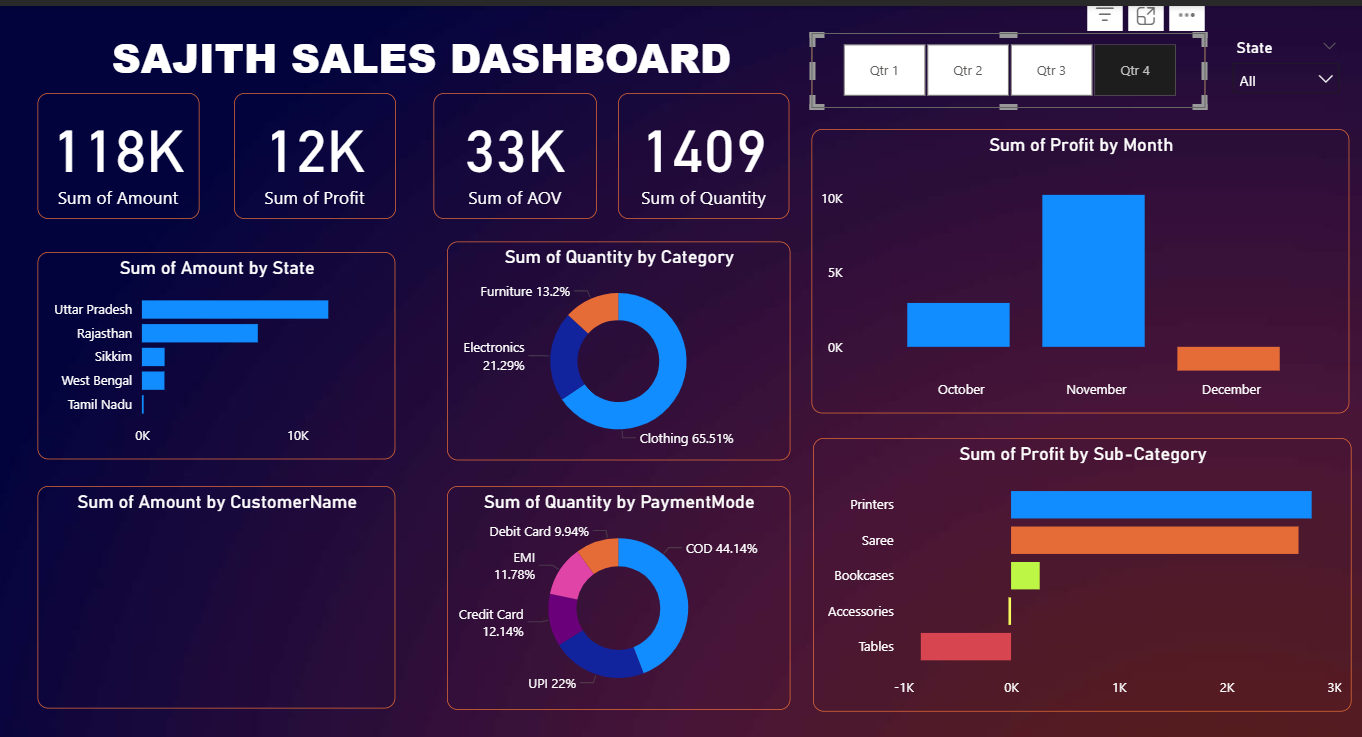

The dashboard page shown, as its layout file describes it:
{"tool":"powerbi","page":{"name":"Page 1","canvas":[1280,720],"ordinal":0},"visuals":[{"type":"clusteredBarChart","fields":{"Y":["Sum(Details.Profit)"],"Category":["Details.Sub-Category"]},"box":[757.8,413.9,498.9,253.2],"z":0},{"type":"donutChart","fields":{"Category":["Details.PaymentMode"],"Y":["Sum(Details.Quantity)"]},"box":[419.4,458.8,318,207.4],"z":1000},{"type":"columnChart","fields":{"Y":["Sum(Details.Profit)"],"Category":["Orders.Order Date.Variation.Date Hierarchy.Month"]},"box":[757.1,127.2,498.2,263.5],"z":2000},{"type":"donutChart","fields":{"Category":["Details.Category"],"Y":["Sum(Details.Quantity)"]},"box":[419.4,231.7,318,202.9],"z":3000},{"type":"columnChart","fields":{"Y":["Sum(Details.Amount)"],"Category":["Orders.CustomerName"]},"box":[40.9,458.8,331.6,205.9],"z":4000},{"type":"barChart","fields":{"Category":["Orders.State"],"Y":["Sum(Details.Amount)"]},"box":[40.9,242.3,331.6,192.3],"z":5000},{"type":"slicer","fields":{"Values":["Orders.Order Date.Variation.Date Hierarchy.Quarter"]},"box":[757.1,39.4,364.9,69.7],"z":6000},{"type":"card","fields":{"Values":["Sum(Details.Amount)"]},"box":[40.9,93.9,149.9,116.6],"z":7000},{"type":"card","fields":{"Values":["Sum(Details.Quantity)"]},"box":[578.4,93.9,159,116.6],"z":8000},{"type":"card","fields":{"Values":["Sum(Details.Profit)"]},"box":[222.6,93.9,149.9,116.6],"z":9000},{"type":"card","fields":{"Values":["Sum(Details.AOV)"]},"box":[407.3,93.9,151.4,116.6],"z":10000},{"type":"textbox","box":[92.4,28.8,605.7,65.1],"z":11000},{"type":"slicer","fields":{"Values":["Orders.State"]},"box":[1137.2,39.4,118.1,69.7],"z":12000}]}

Visuals, with their boxes on the page's 1280x720 design canvas (x1, y1, x2, y2). These are canvas units, not pixel positions in the 1362x737 screenshot, which may show the page scaled, cropped or inside an application window:
clusteredBarChart - Sum(Details.Profit) x Details.Sub-Category: {"x1": 758, "y1": 414, "x2": 1257, "y2": 667}
donutChart - Details.PaymentMode x Sum(Details.Quantity): {"x1": 419, "y1": 459, "x2": 737, "y2": 666}
columnChart - Sum(Details.Profit) x Orders.Order Date.Variation.Date Hierarchy.Month: {"x1": 757, "y1": 127, "x2": 1255, "y2": 391}
donutChart - Details.Category x Sum(Details.Quantity): {"x1": 419, "y1": 232, "x2": 737, "y2": 435}
columnChart - Sum(Details.Amount) x Orders.CustomerName: {"x1": 41, "y1": 459, "x2": 372, "y2": 665}
barChart - Orders.State x Sum(Details.Amount): {"x1": 41, "y1": 242, "x2": 372, "y2": 435}
slicer - Orders.Order Date.Variation.Date Hierarchy.Quarter: {"x1": 757, "y1": 39, "x2": 1122, "y2": 109}
card - Sum(Details.Amount): {"x1": 41, "y1": 94, "x2": 191, "y2": 210}
card - Sum(Details.Quantity): {"x1": 578, "y1": 94, "x2": 737, "y2": 210}
card - Sum(Details.Profit): {"x1": 223, "y1": 94, "x2": 372, "y2": 210}
card - Sum(Details.AOV): {"x1": 407, "y1": 94, "x2": 559, "y2": 210}
textbox: {"x1": 92, "y1": 29, "x2": 698, "y2": 94}
slicer - Orders.State: {"x1": 1137, "y1": 39, "x2": 1255, "y2": 109}
